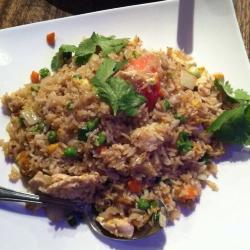rice: (20, 72, 199, 189)
